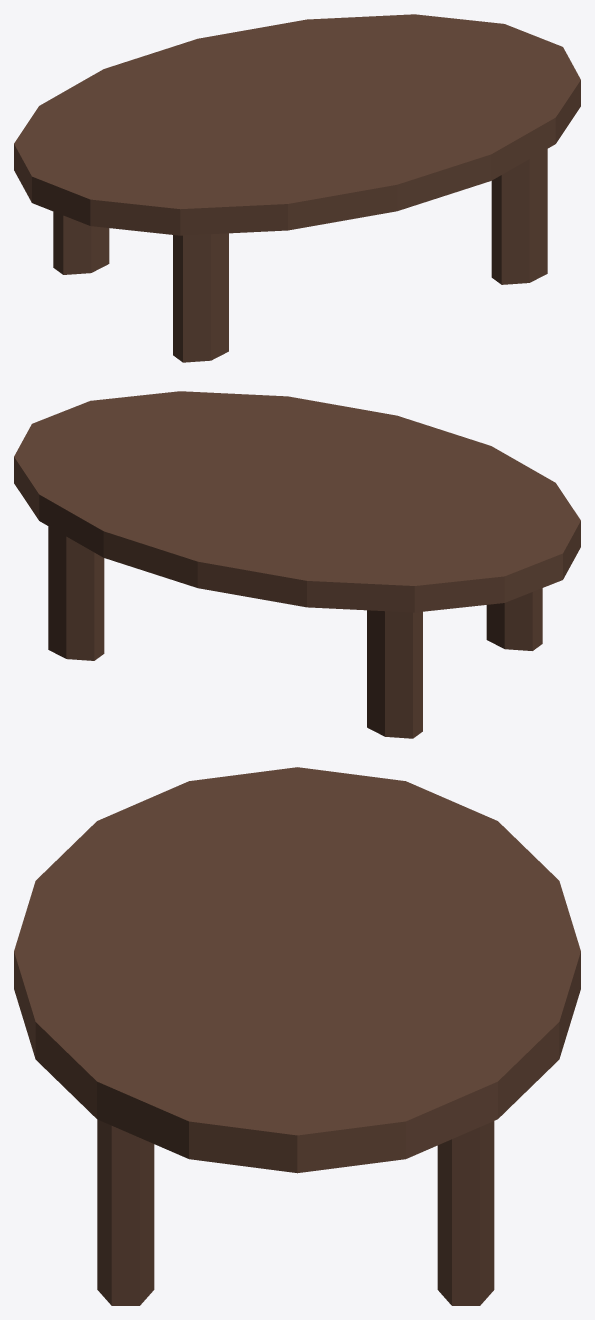
Rendered from TableSalleAManger2.fbx.
3 renders of one model, top to bottom at view 1: azimuth 30°, elevation 25°; view 2: azimuth 150°, elevation 25°; view 3: azimuth 270°, elevation 25°, orthographic. The views are drawn at different scales.
Parts seen in each view (by area): view 1: Cylinder.001; view 2: Cylinder.001; view 3: Cylinder.001.
Boxes of the visible parts, box(x1,y1,x2,y2) form: Cylinder.001: box(14, 14, 580, 362); Cylinder.001: box(14, 391, 580, 738); Cylinder.001: box(14, 767, 580, 1305).
Size of the model in its own units: 844 by 242 by 549.
